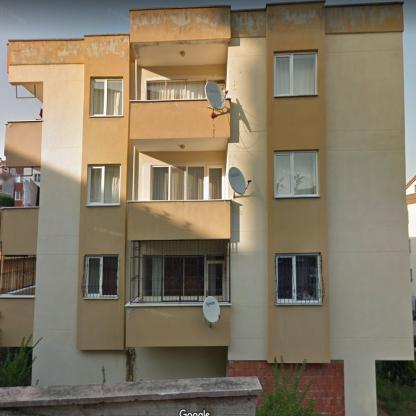door: (206, 262, 226, 300)
window: (150, 166, 225, 200), (143, 255, 205, 296), (276, 254, 320, 303), (274, 150, 318, 197), (274, 52, 317, 96), (147, 79, 226, 100), (84, 255, 118, 297), (87, 164, 120, 204), (91, 79, 123, 116), (206, 254, 225, 261), (15, 192, 22, 200), (34, 175, 40, 182)
